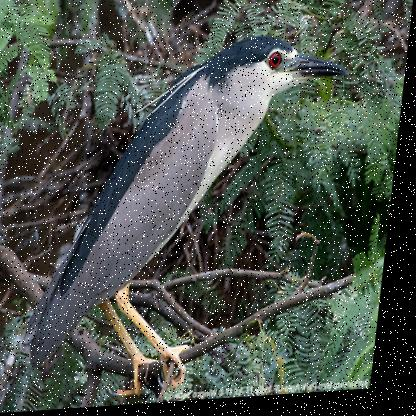Burung: (36, 37, 351, 400)
